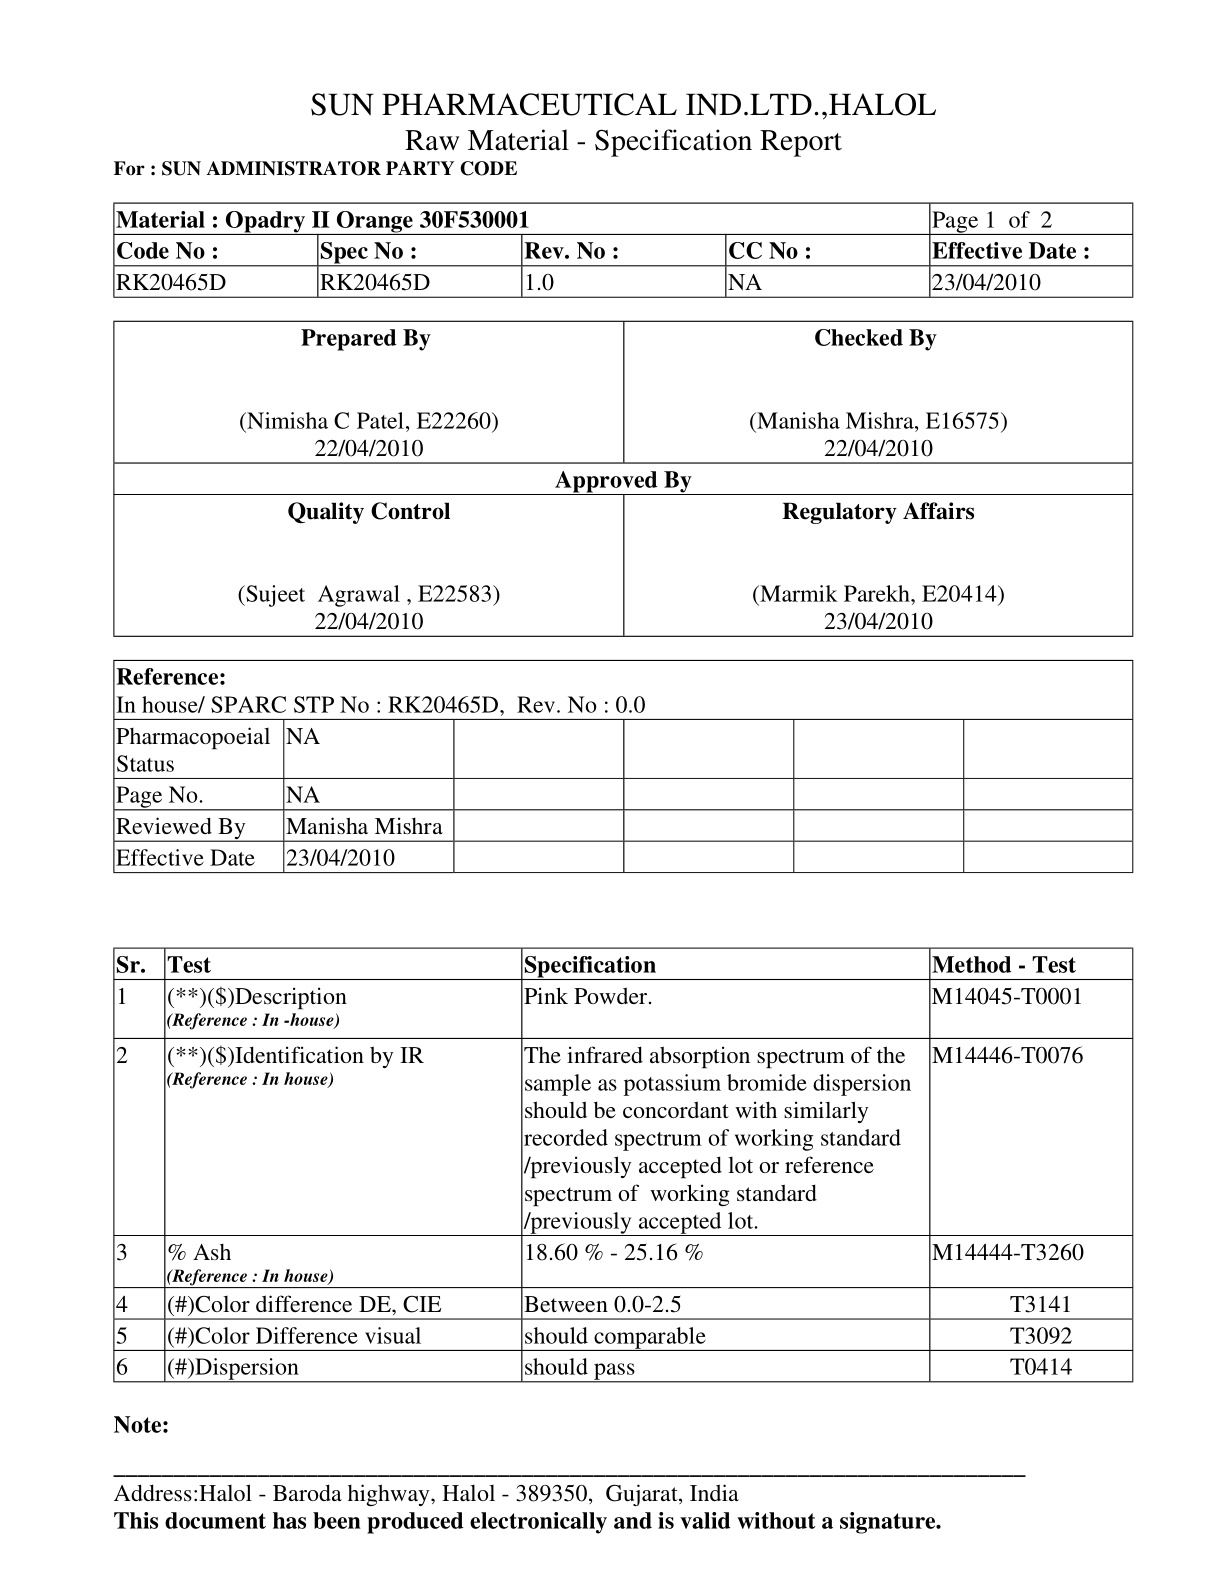full_lined: (113, 948, 1134, 1383)
merged_cells: (113, 660, 1134, 874), (113, 202, 1134, 300)
partial_lined_merged_cells: (112, 320, 1134, 638)
